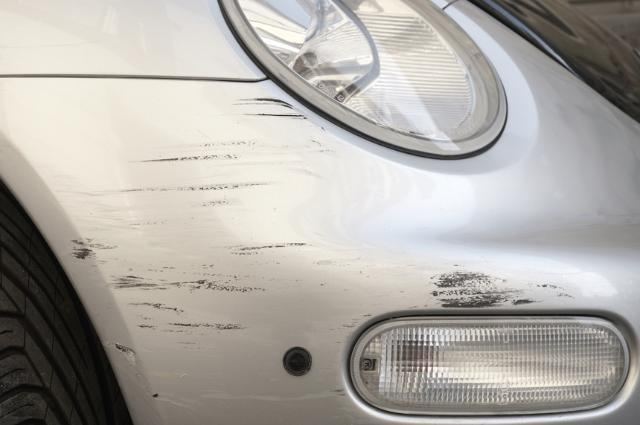Bumper: (42, 89, 531, 425)
